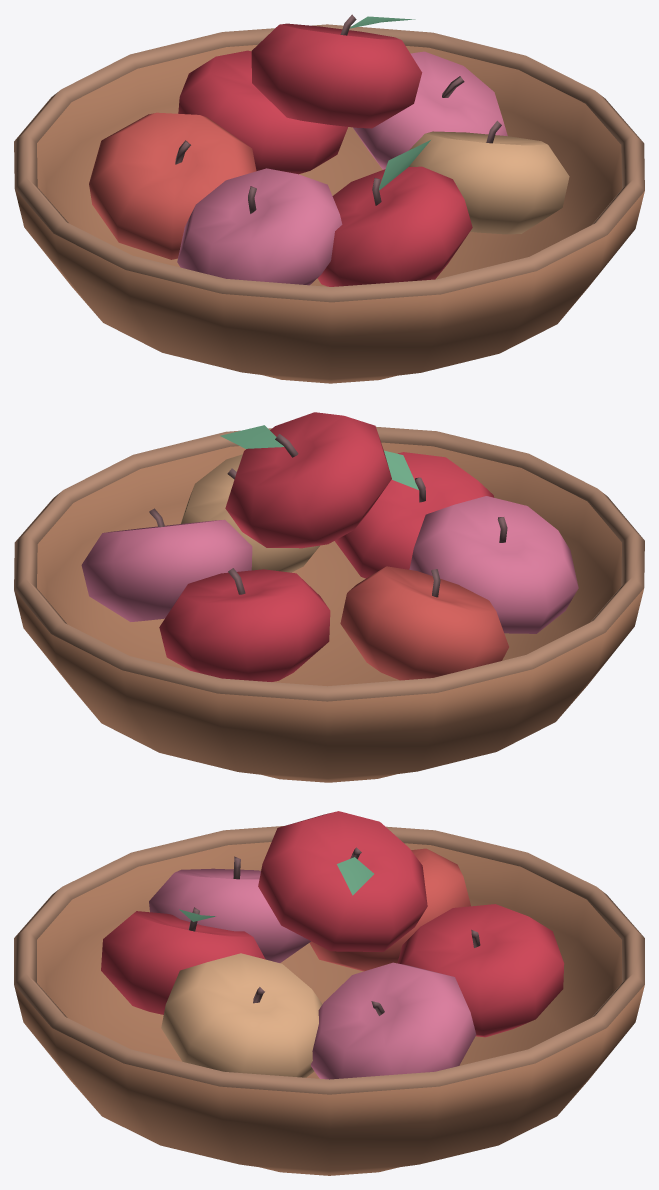
Rendered from apples_bowl.glb.
The picture shows the model from 3 angles, top to bottom: view 1: azimuth 30°, elevation 25°; view 2: azimuth 150°, elevation 25°; view 3: azimuth 270°, elevation 25°; orthographic projection.
Visible parts, largest first — view 1: apples_bowl; view 2: apples_bowl; view 3: apples_bowl.
Boxes of the visible parts, left/top/right/bottom form: apples_bowl: left=14, top=14, right=644, bottom=383; apples_bowl: left=14, top=412, right=644, bottom=782; apples_bowl: left=14, top=811, right=644, bottom=1175.
Size of what is drawn, in the model's own units: 0.35 by 0.18 by 0.35.
